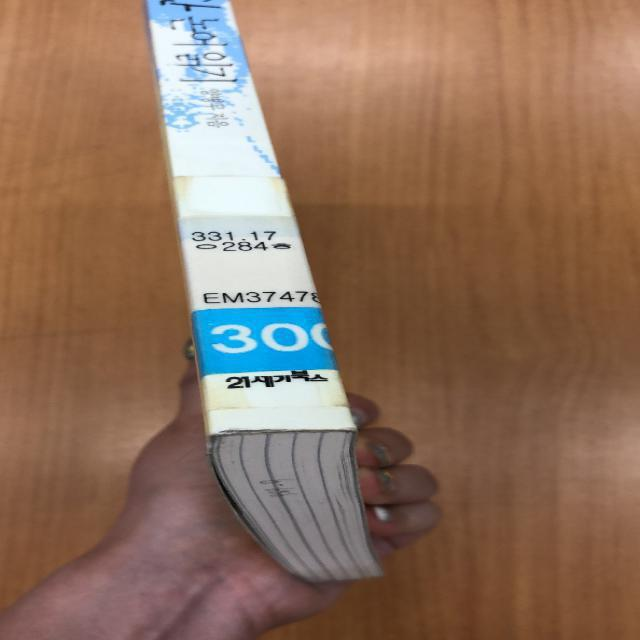Wornout: (200, 424, 361, 459)
